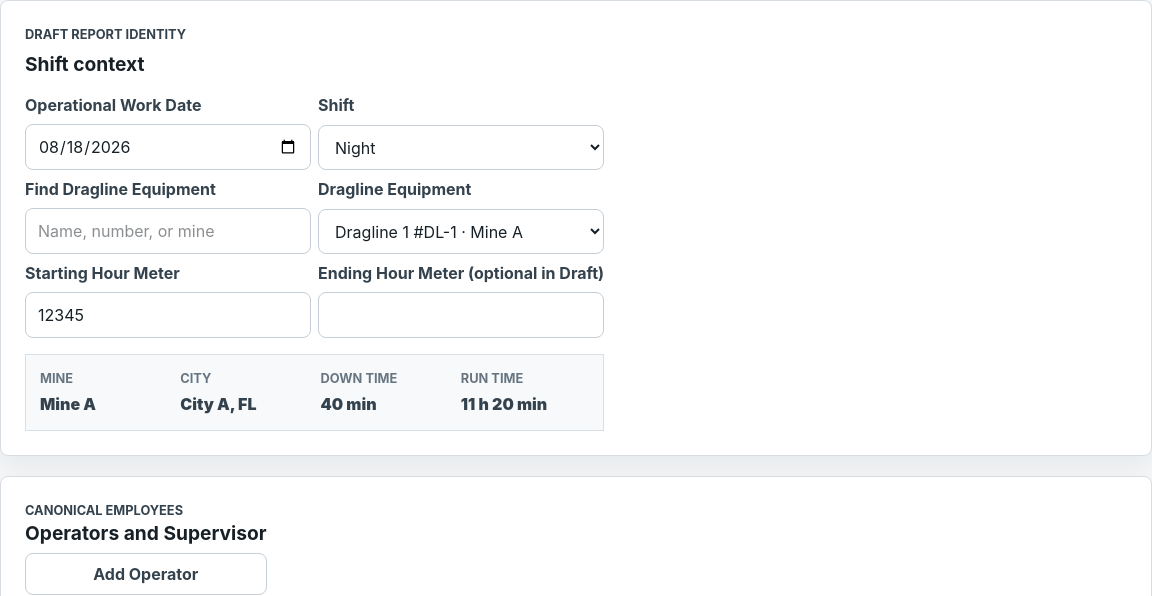
Test: DraglineDelayReportForm › switches untouched Night defaults directly to Day defaults
Select "Day" in the dropdown labelled "Shift" at (461, 148), box 318,125 -> 604,170
(page scrolled)
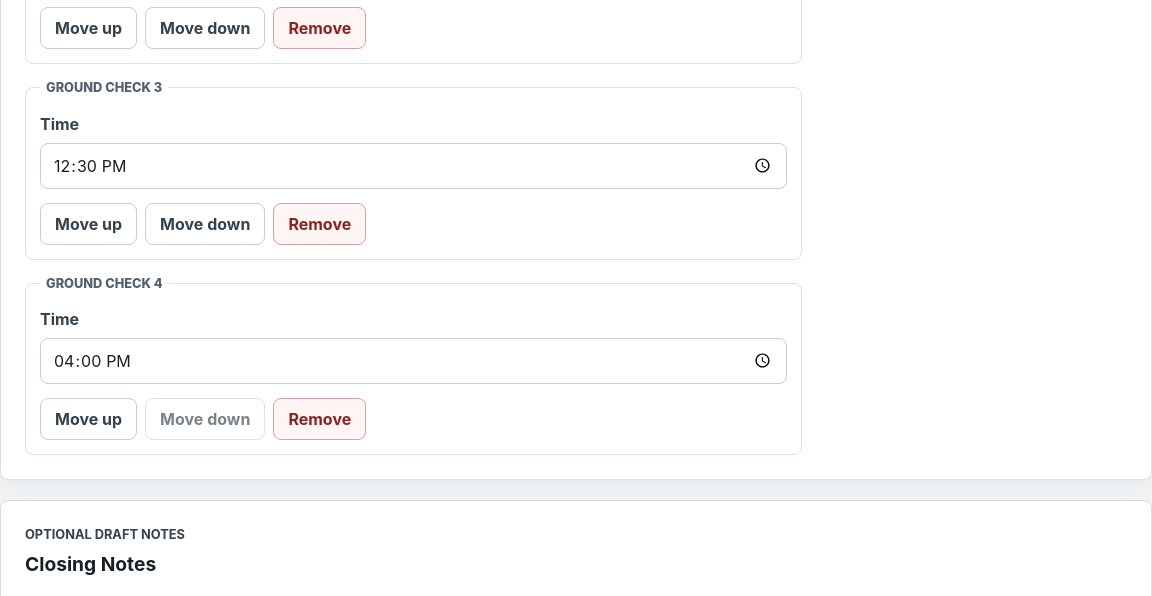
expect the time field named "Ground Check time 3" holds "12:30": met, box 40,143 -> 787,189
expect the time field named "Ground Check time 4" holds "16:00": met, box 40,338 -> 787,384
